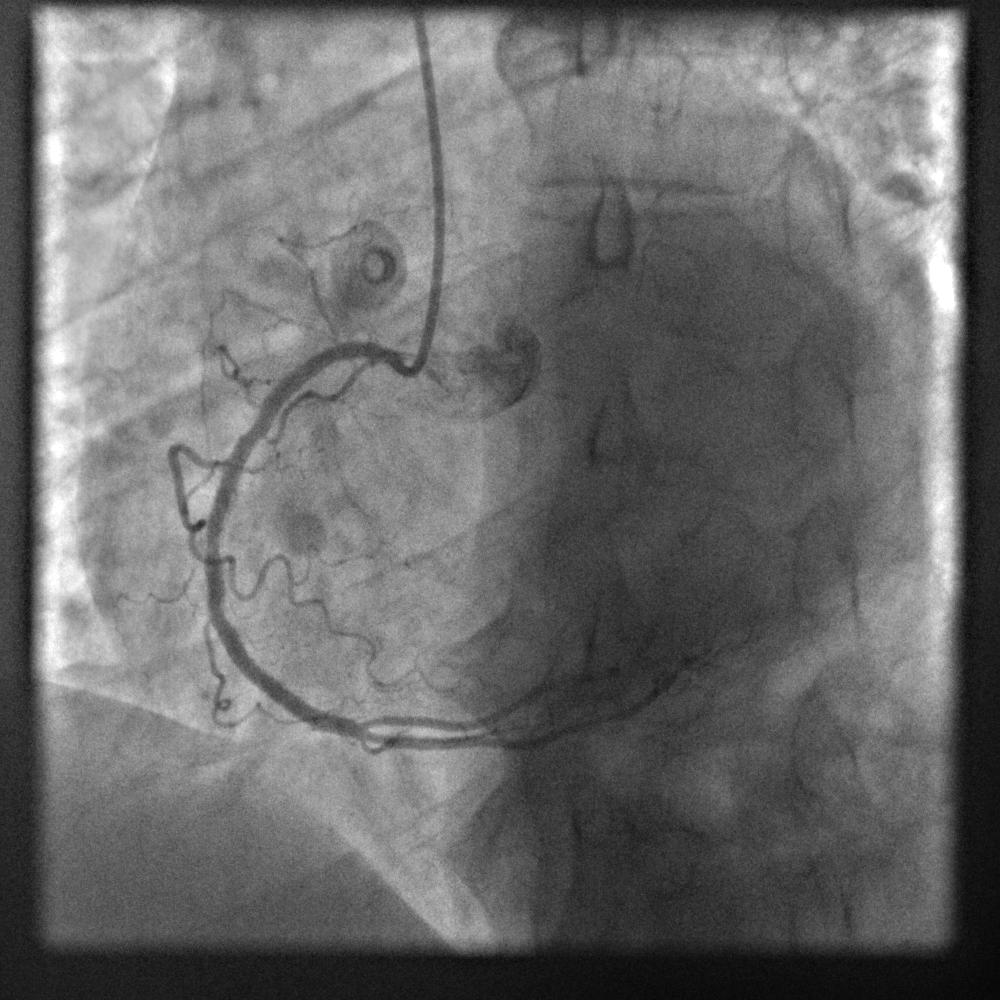Stenosis: (227, 395, 274, 451)
